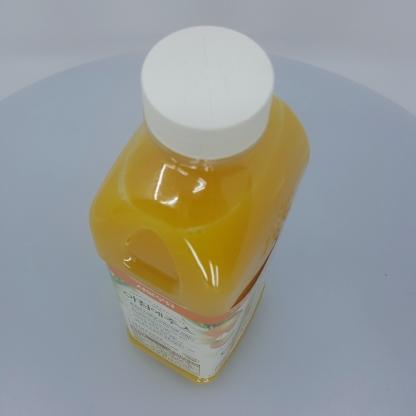----------950ML: (88, 25, 309, 386)
